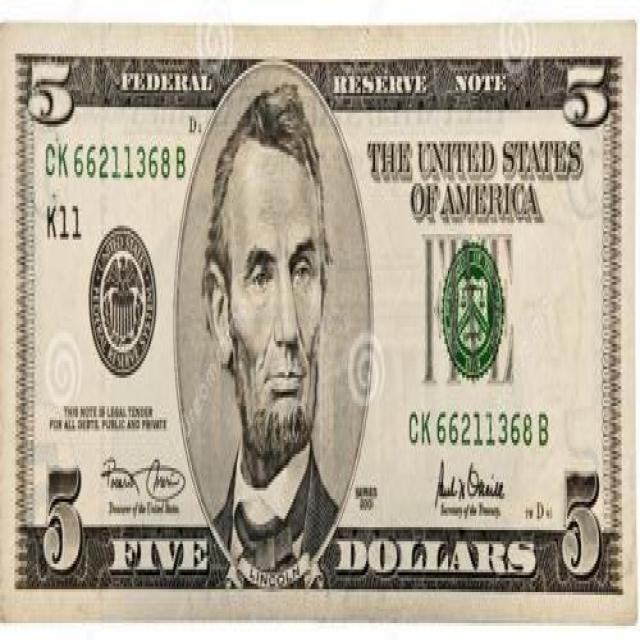5-Front: (0, 19, 640, 628)
